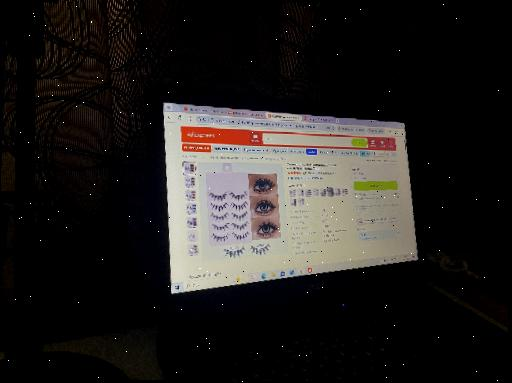aliexpress: (172, 124, 406, 260)
